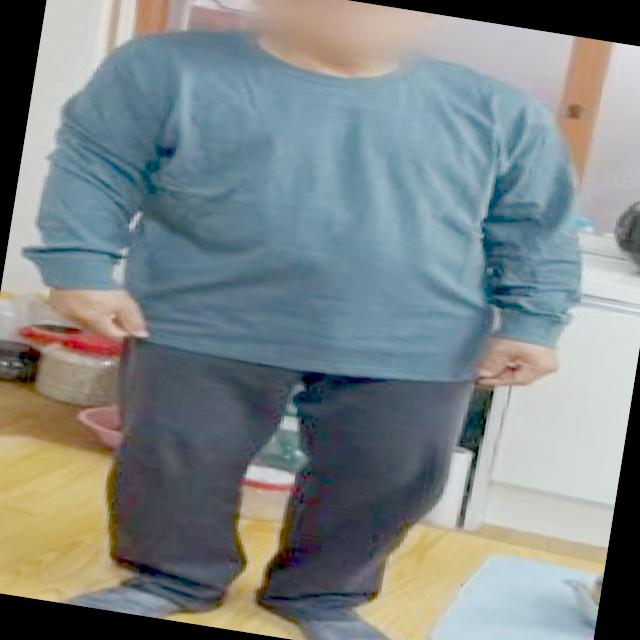longsleeve: (15, 0, 616, 412)
trainingpants: (84, 321, 470, 640)
